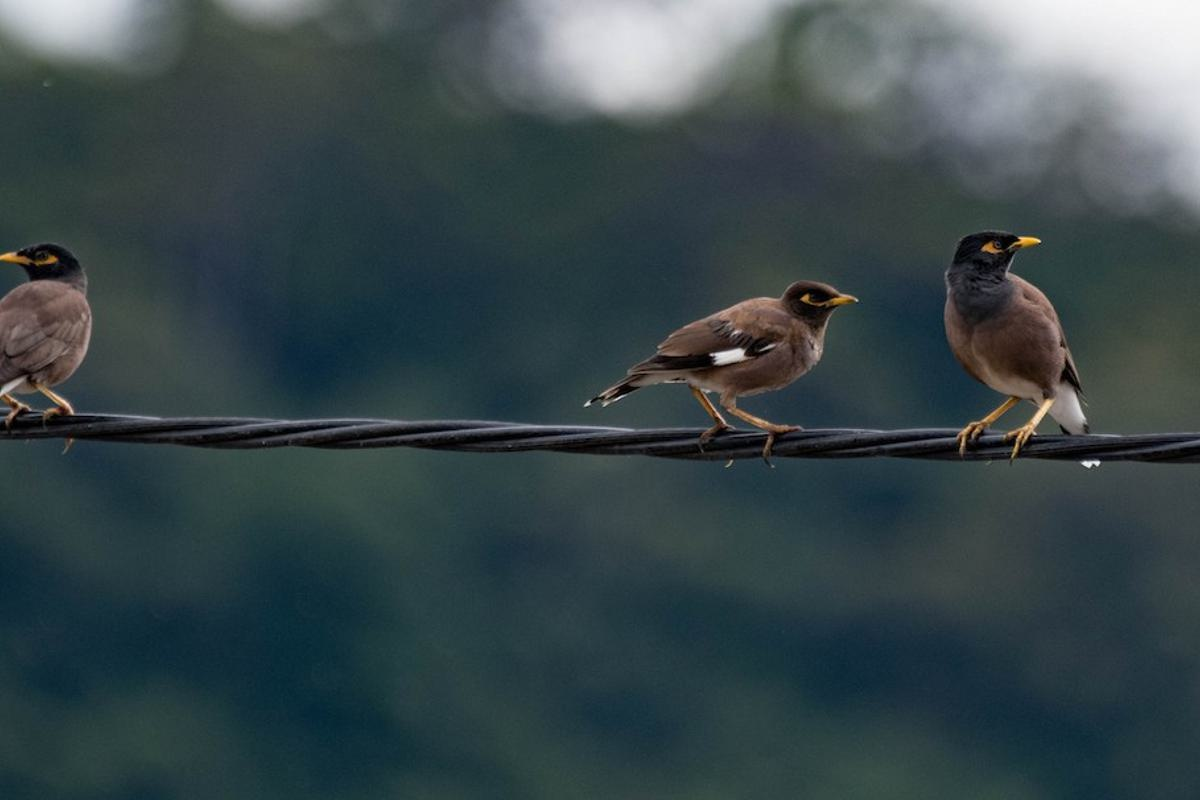myna: (603, 253, 870, 482), (923, 214, 1125, 447), (1, 221, 133, 446)
